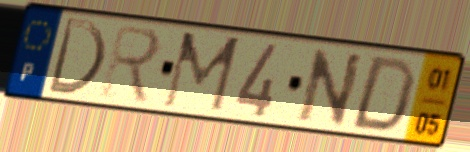4: (231, 40, 280, 119)
D: (346, 54, 419, 135), (44, 14, 109, 99)
M: (159, 29, 244, 115)
N: (295, 47, 367, 129)
R: (97, 21, 164, 108)
